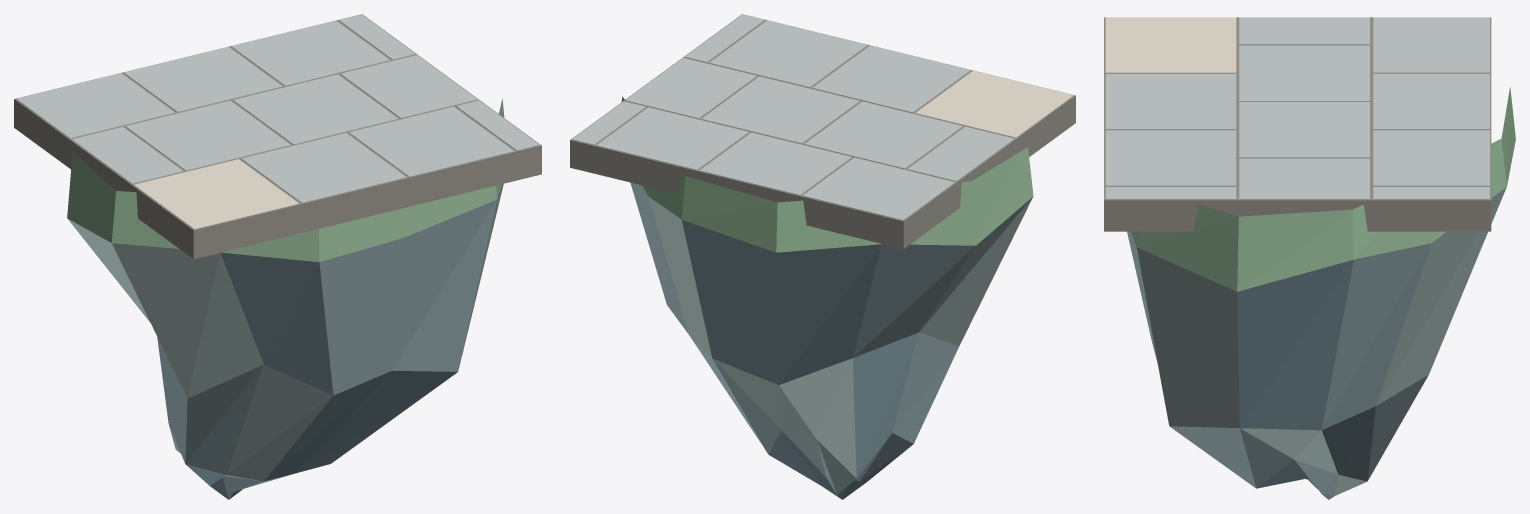
The model's file is FloatingIsland10.glb.
3 views of the same model, side by side, from view 1: azimuth 30°, elevation 25°; view 2: azimuth 150°, elevation 25°; view 3: azimuth 270°, elevation 25° (orthographic). The views are drawn at different scales.
Parts seen in each view (by area): view 1: FloatingIsland10; view 2: FloatingIsland10; view 3: FloatingIsland10.
Part boxes in pixels (x1,y1,x2,y2): FloatingIsland10: (14, 14, 541, 499); FloatingIsland10: (570, 14, 1075, 499); FloatingIsland10: (1104, 17, 1515, 499).
Bounding box in the file's own units: 3.86 × 3.55 × 3.23.
